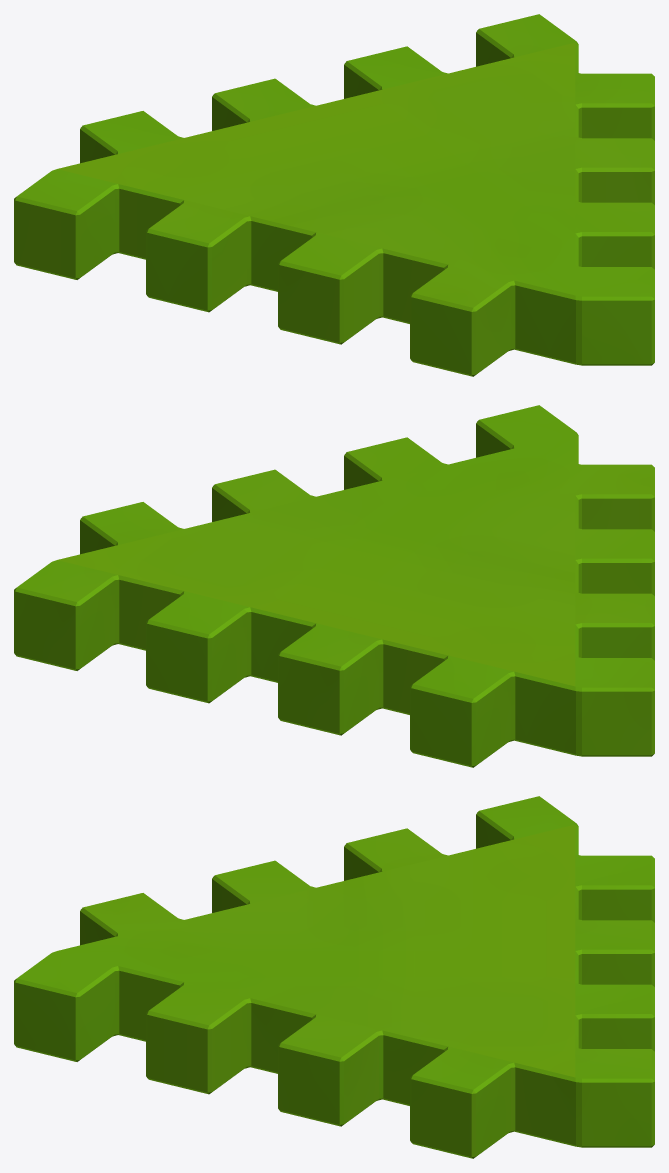
Rendered from GreenTriangle.fbx.
3 views of the same model, one above another, from view 1: azimuth 30°, elevation 25°; view 2: azimuth 150°, elevation 25°; view 3: azimuth 270°, elevation 25° (orthographic).
Parts seen in each view (by area): view 1: BlueTriangle; view 2: BlueTriangle; view 3: BlueTriangle.
Boxes of the visible parts, x1=… form: BlueTriangle: x1=14, y1=14, x2=654, y2=376; BlueTriangle: x1=14, y1=405, x2=654, y2=767; BlueTriangle: x1=14, y1=796, x2=654, y2=1158.
Bounding box in the file's own units: 4.59 × 0.4992 × 4.2.
